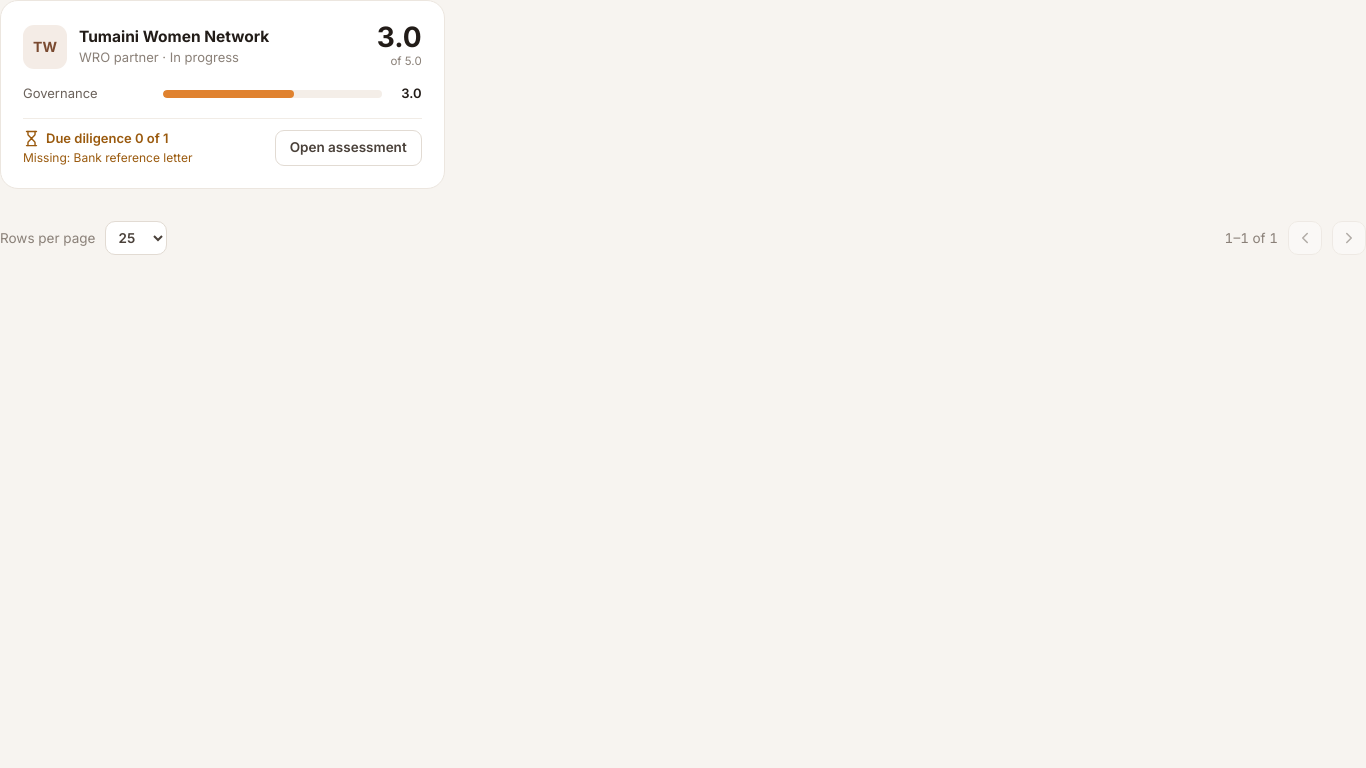
Scenario: assessment cards › shows missing due diligence rows and distinct recommendation and approval controls
Check: the text "Missing: Bank reference letter" is shown, box [23,150,192,166]
Click the button "Open assessment": (348, 148) [275,130,422,166]
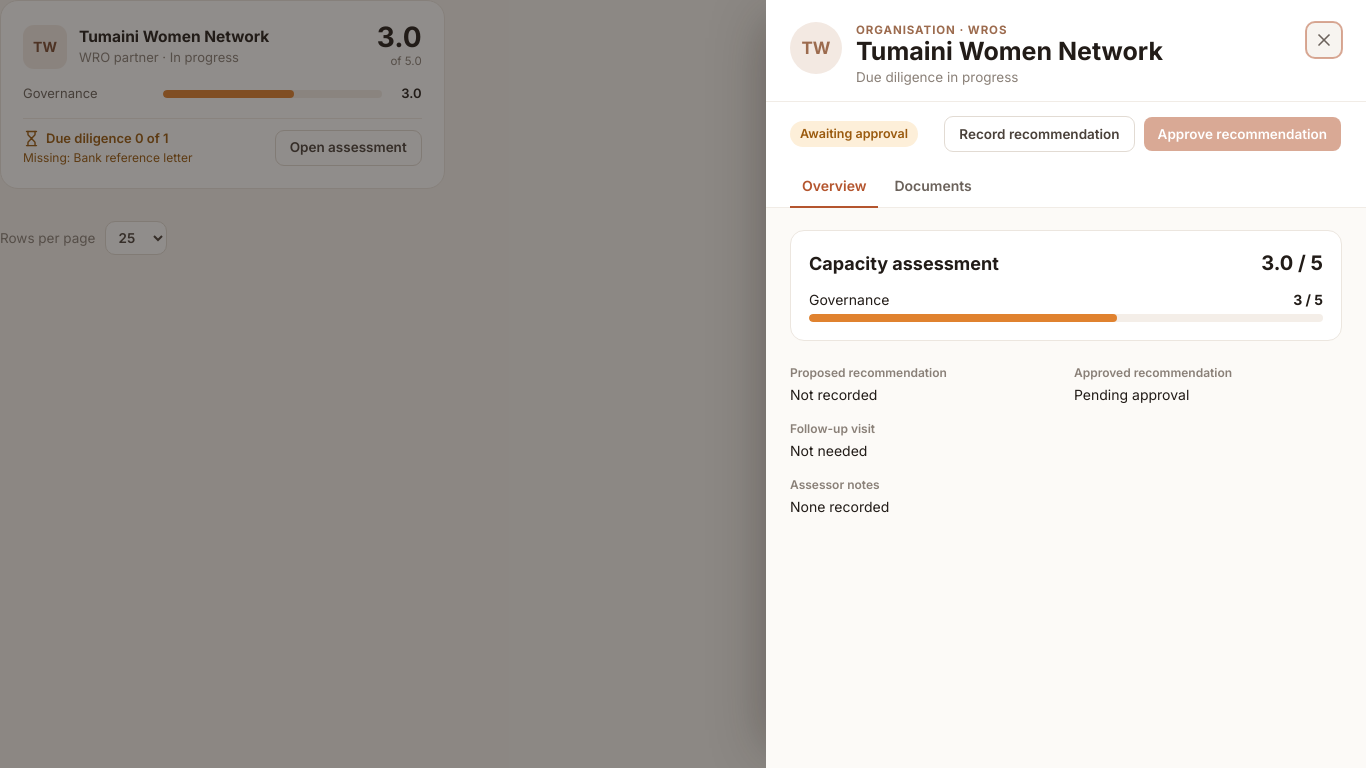
Check: the button "Approve recommendation" is disabled, box [1143,116,1342,152]
